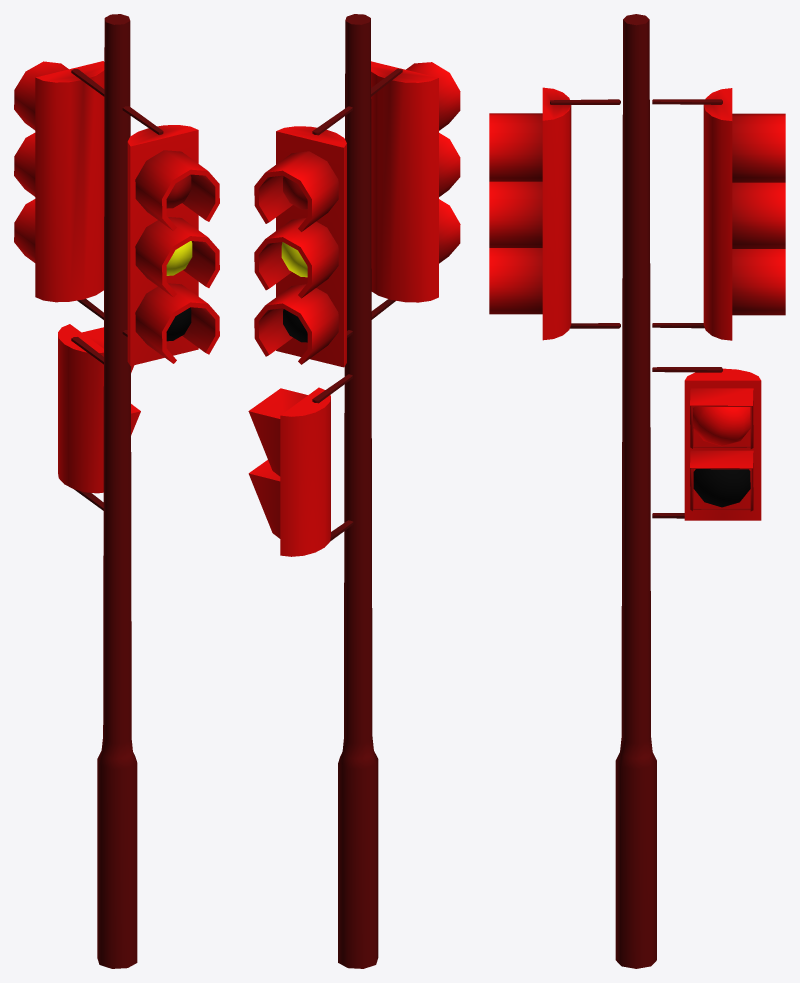
Rendered from YellowTrafficLight005.glb.
3 renders of one model, left to right at view 1: azimuth 30°, elevation 25°; view 2: azimuth 150°, elevation 25°; view 3: azimuth 270°, elevation 25°, orthographic.
Parts seen in each view (by area): view 1: YellowTrafficLight005; view 2: YellowTrafficLight005; view 3: YellowTrafficLight005.
Boxes of the visible parts, x1,y1,x2,y2 form: YellowTrafficLight005: (14,14,219,968); YellowTrafficLight005: (248,14,460,968); YellowTrafficLight005: (489,14,785,968).
Bounding box in the file's own units: 2.12 × 22.37 × 6.38.
